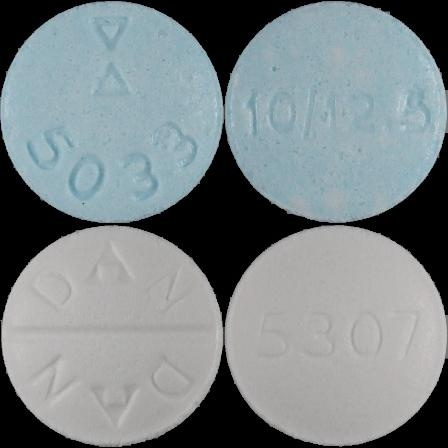63629-1679: (0, 0, 224, 224)
